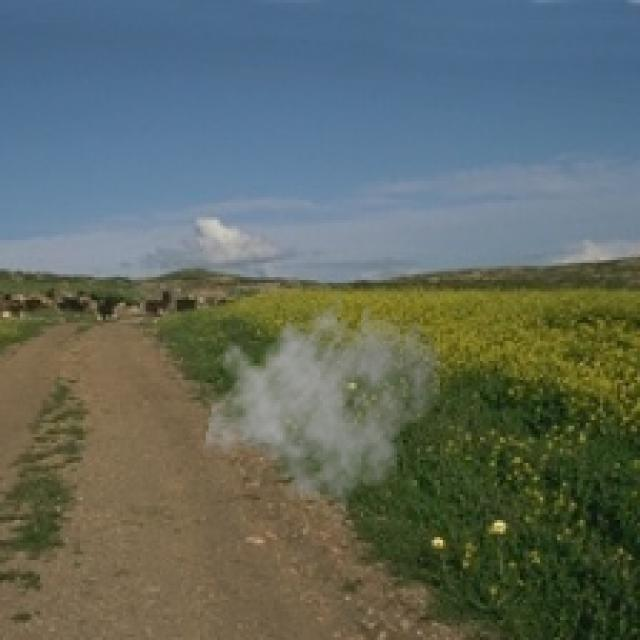Smoke: (203, 283, 446, 512)
